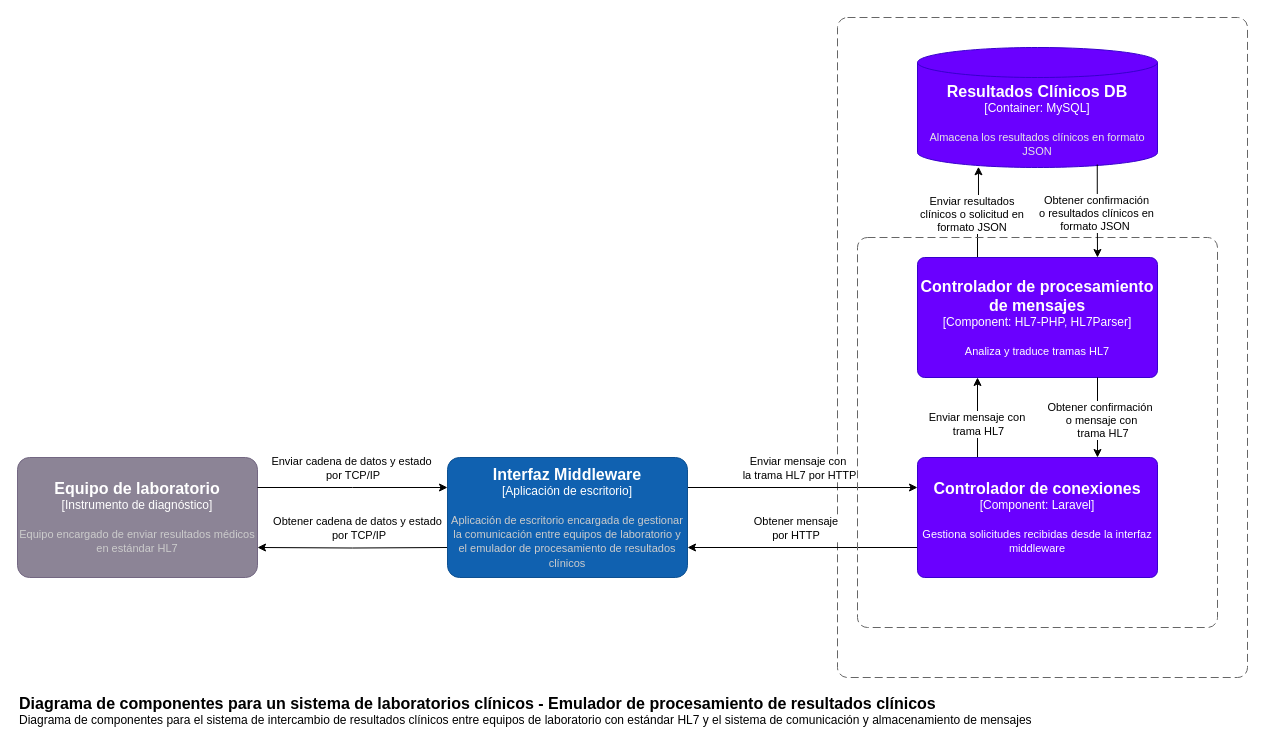
Image size: 1265x746. Some labels were removed from this diagram. The shapes that lost their labels are listed below. From the top down, each one's box as (x1, y1, x2, y2) in pixels, then its label:
(836, 16, 1248, 678): Emulador de procesamiento de resultados clínicos [Servicio en la nube]
(856, 236, 1218, 628): Intérprete de mensajes HL7 a JSON [Container]
